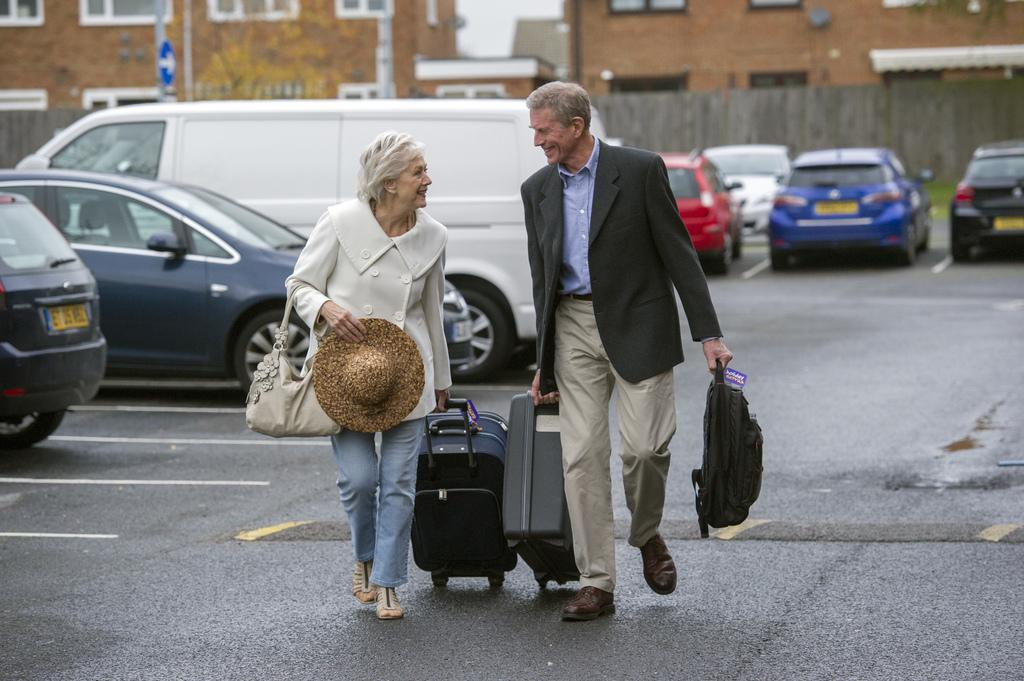Luggage-and-bags: (405, 409, 522, 620), (500, 389, 584, 595), (241, 285, 354, 436), (692, 361, 771, 542)
